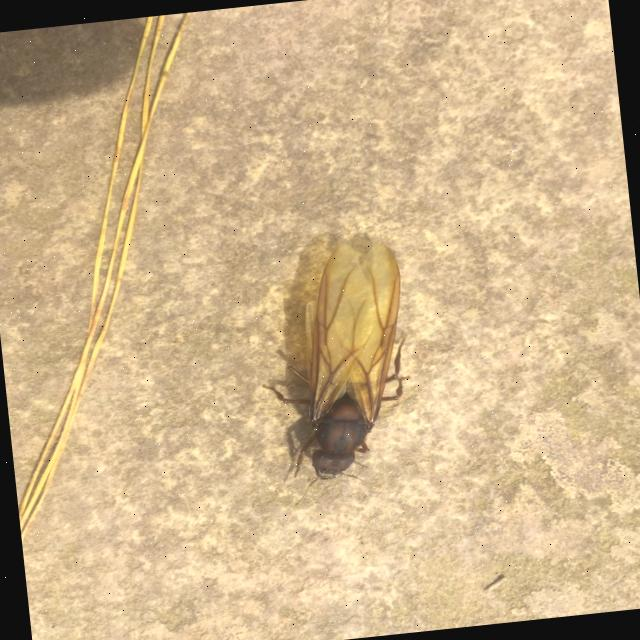Alive-Female-Alate: (246, 234, 425, 510)
